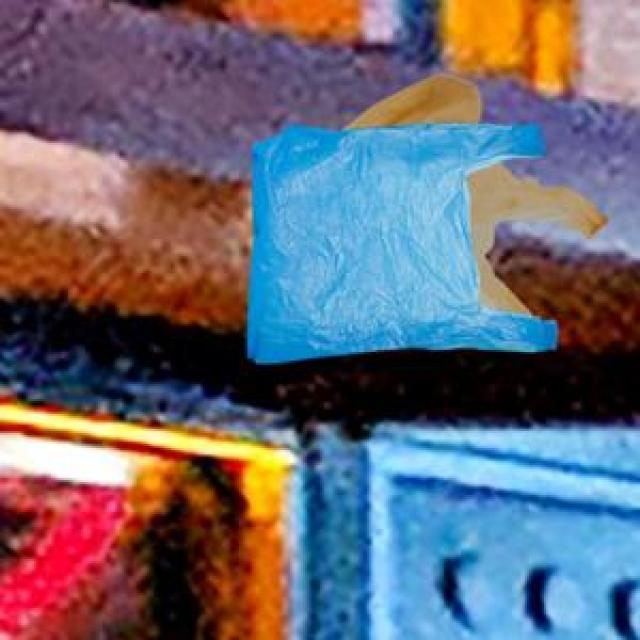waste: (248, 124, 554, 363)
